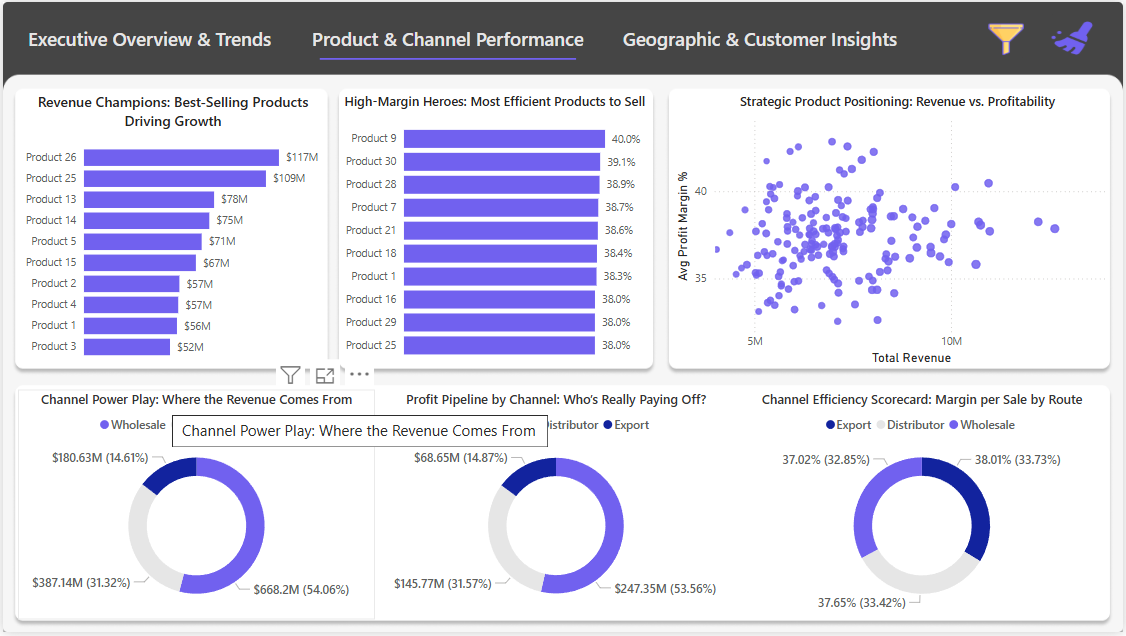

The dashboard page shown, as its layout file describes it:
{"tool":"powerbi","page":{"name":"Product & Channel Performance","canvas":[1280,720],"ordinal":1},"visuals":[{"type":"barChart","title":"Revenue Champions: Best-Selling Products Driving Growth","fields":{"Category":["Sales_data.product_name"],"Y":["Measures_.Total Revenue"]},"box":[16,103,357,316],"z":0},{"type":"scatterChart","title":"Strategic Product Positioning: Revenue vs. Profitability","fields":{"X":["Customer Summary.Total Revenue"],"Y":["Customer Summary.Avg Profit Margin %"],"Size":["Sum(Customer Summary.Order Count)"]},"box":[764,103,516,317],"z":1000},{"type":"barChart","title":"High-Margin Heroes: Most Efficient Products to Sell","fields":{"Category":["Sales_data.product_name"],"Y":["Measures_.Profit Margin %"]},"box":[382,103,361,316],"z":2000},{"type":"donutChart","title":"Channel Power Play: Where the Revenue Comes From","fields":{"Category":["Sales_data.channel"],"Y":["Measures_.Total Revenue"]},"box":[16.7,443.3,408.3,261.7],"z":3000},{"type":"donutChart","title":"Profit Pipeline by Channel: Who’s Really Paying Off?","fields":{"Category":["Sales_data.channel"],"Y":["Measures_.Total Profit"]},"box":[436.7,443.3,390,261.7],"z":4000},{"type":"donutChart","title":"Channel Efficiency Scorecard: Margin per Sale by Route","fields":{"Category":["Sales_data.channel"],"Y":["Measures_.Profit Margin %"]},"box":[843.3,443.3,415,261.7],"z":5000},{"type":"actionButton","box":[337.2,14.1,342.3,55.1],"z":6000},{"type":"actionButton","box":[9,14.1,317.9,55.1],"z":7000},{"type":"actionButton","box":[695,13.8,341.2,55],"z":8000},{"type":"actionButton","box":[1188,14,70,55],"z":9000},{"type":"actionButton","box":[1120,21,53,42],"z":10000}]}

Visuals, with their boxes in screenshot pixels (x1, y1, x2, y2), scaled from the page's 1280x720 canvas onto the 1126x636 screenshot:
"Revenue Champions: Best-Selling Products Driving Growth" barChart: [14,91,328,370]
"Strategic Product Positioning: Revenue vs. Profitability" scatterChart: [672,91,1125,371]
"High-Margin Heroes: Most Efficient Products to Sell" barChart: [336,91,654,370]
"Channel Power Play: Where the Revenue Comes From" donutChart: [15,392,374,623]
"Profit Pipeline by Channel: Who’s Really Paying Off?" donutChart: [384,392,727,623]
"Channel Efficiency Scorecard: Margin per Sale by Route" donutChart: [742,392,1107,623]
actionButton: [297,12,598,61]
actionButton: [8,12,288,61]
actionButton: [611,12,912,61]
actionButton: [1045,12,1107,61]
actionButton: [985,19,1032,56]
